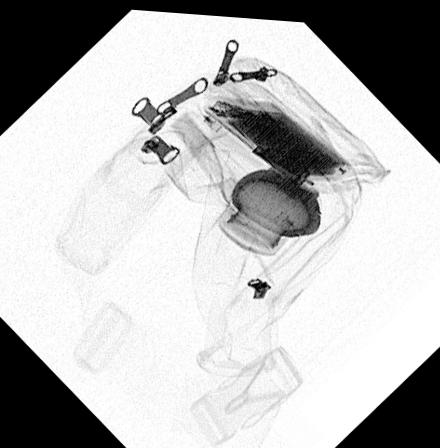Powerbank: (204, 87, 353, 180)
